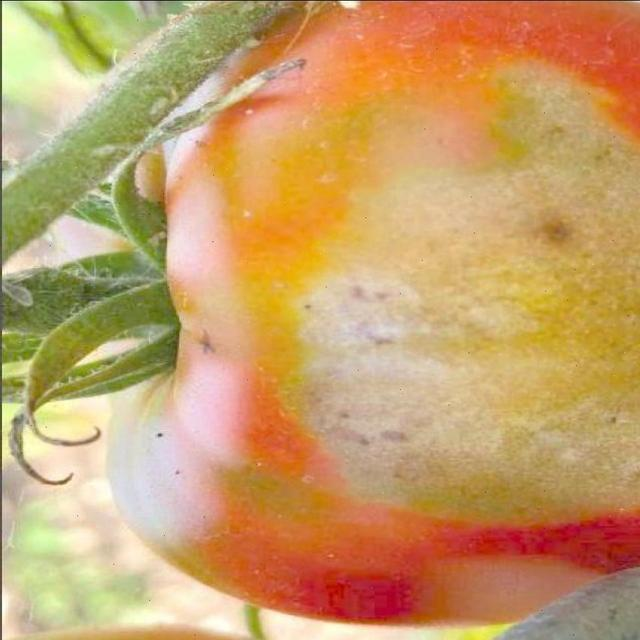Sunscald Fruit: (159, 49, 427, 348)
